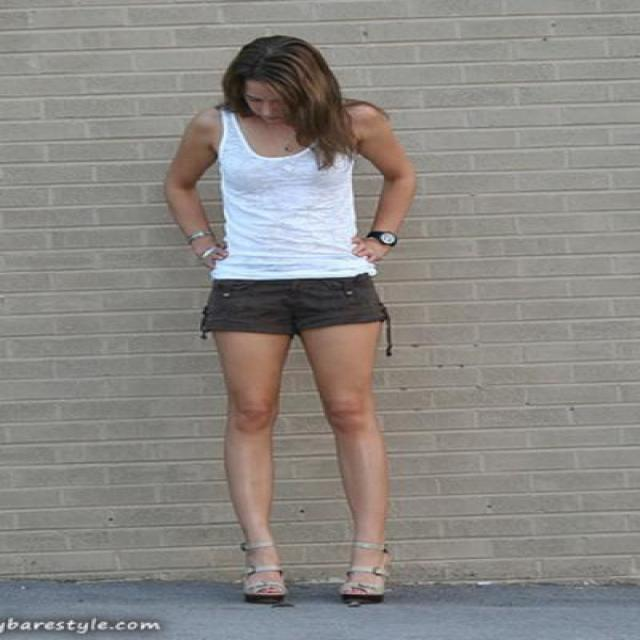shirt: (212, 115, 382, 278)
shoe: (244, 594, 382, 606)
shorts: (200, 273, 389, 341)
